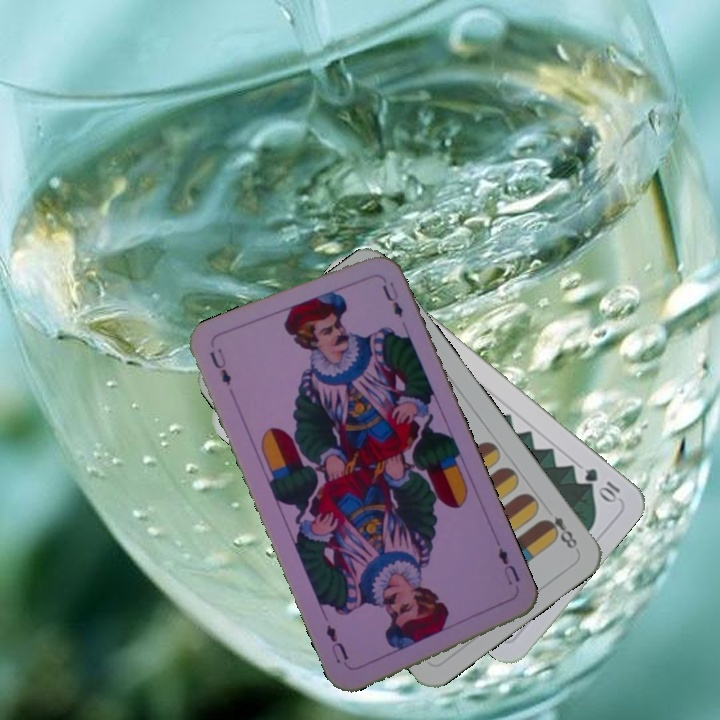E8: (538, 511, 581, 553)
EU: (494, 543, 523, 588), (205, 344, 234, 388)
G10: (580, 463, 623, 505)
